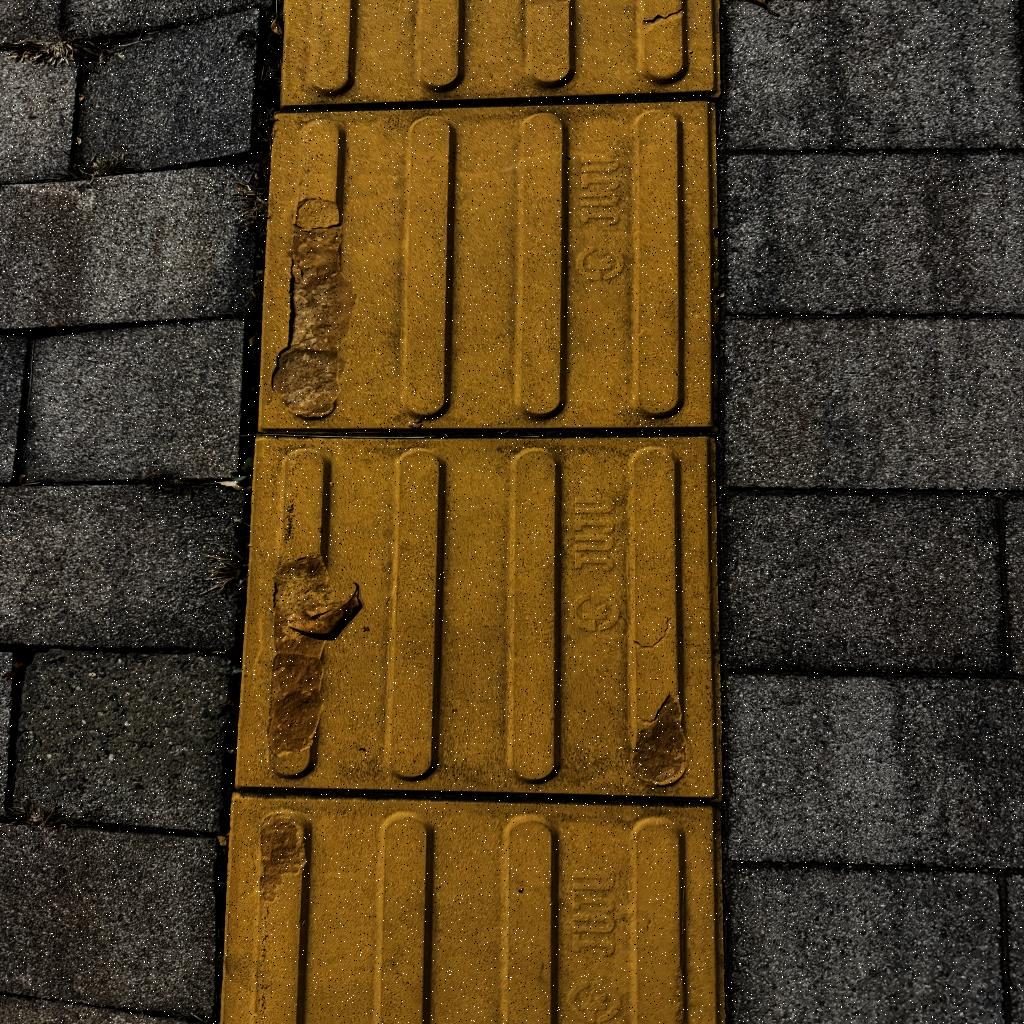Straight block broken: (240, 439, 717, 794), (259, 105, 709, 428)
